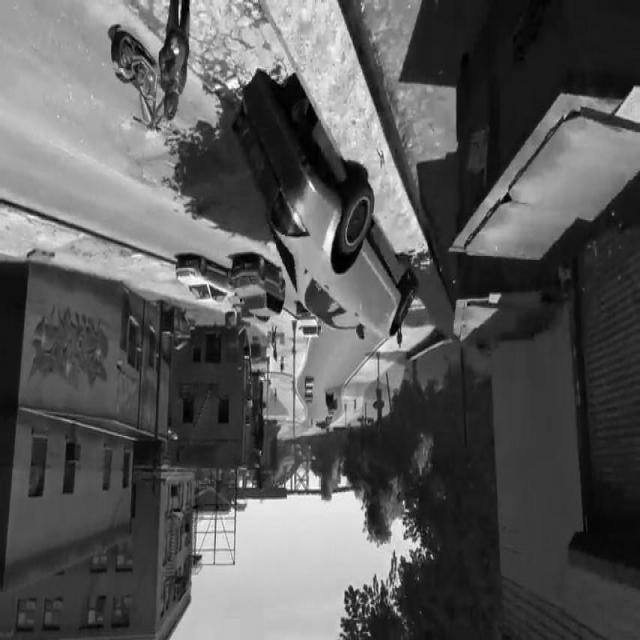severe: (225, 68, 420, 356)
